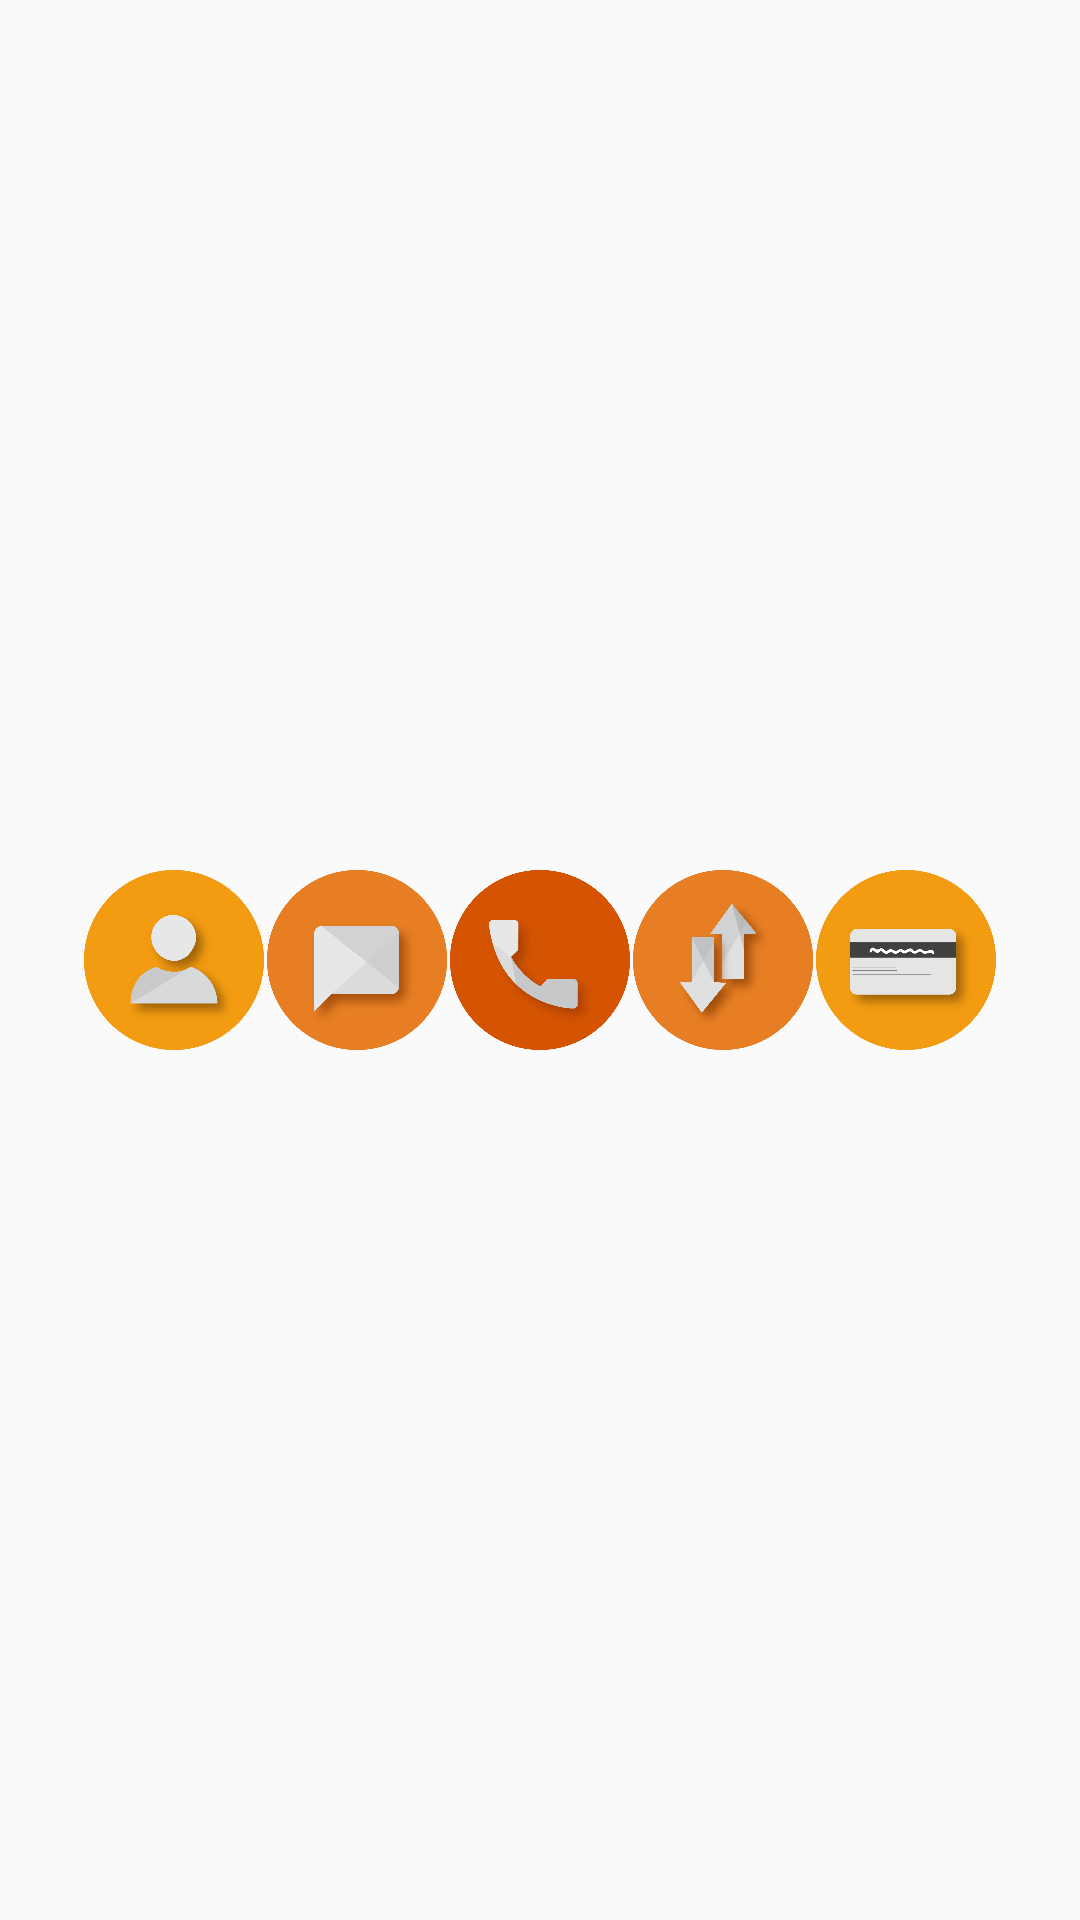

Icons on this 1080*1920 Android screen, each with its box as (x1, y1, x2, y2):
callwd: (450, 870, 630, 1050)
datawd: (633, 870, 813, 1050)
